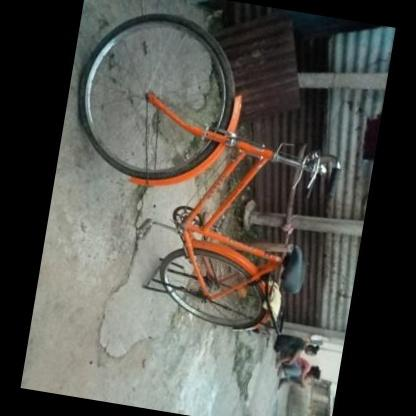Bicycle: (64, 0, 308, 348)
